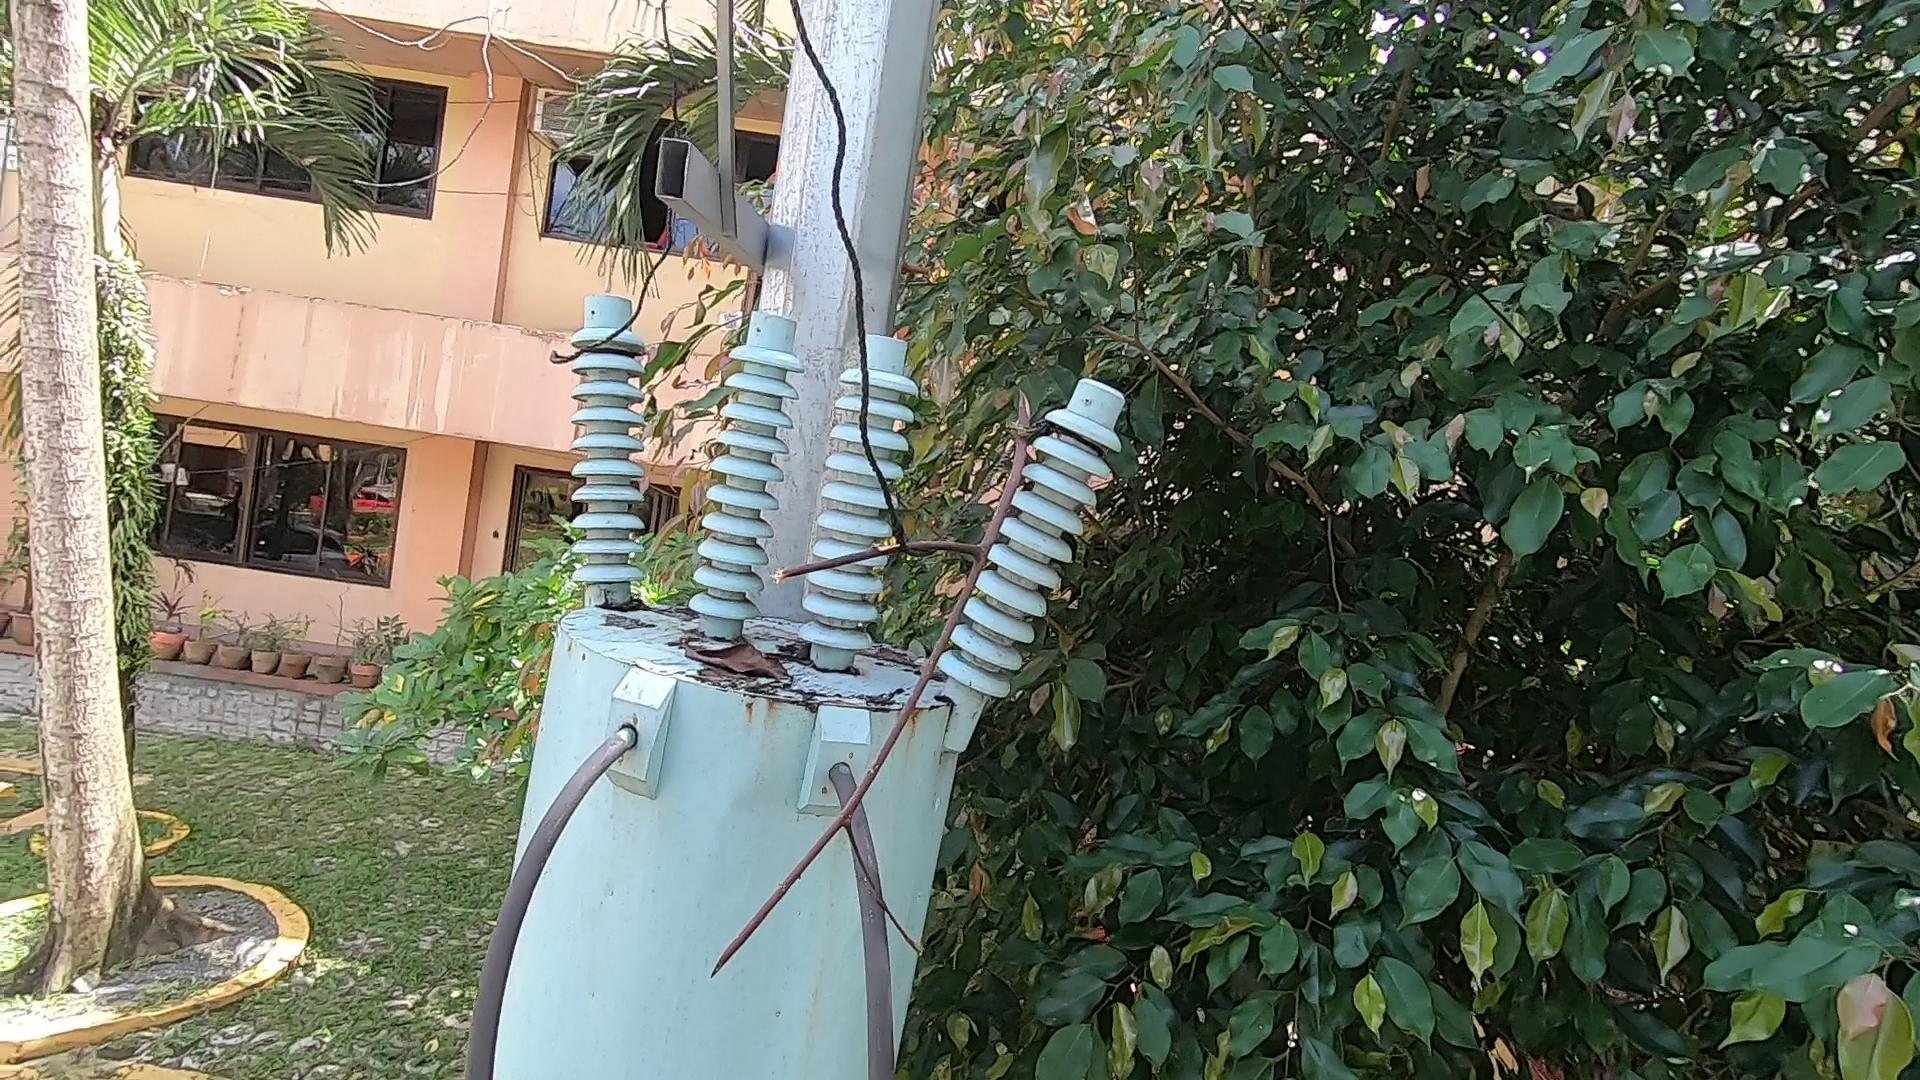leaf: (683, 636, 790, 707)
tree branch: (688, 378, 1113, 1014)
